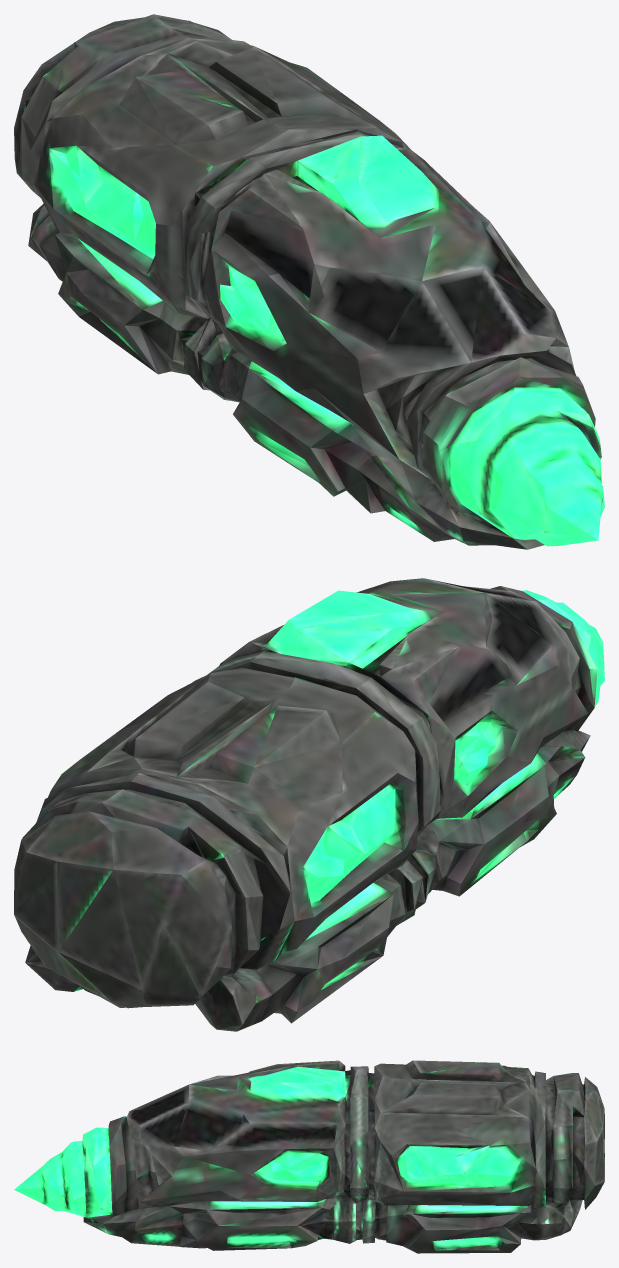
Rendered from train-earth.glb.
3 renders of one model, top to bottom at view 1: azimuth 30°, elevation 25°; view 2: azimuth 150°, elevation 25°; view 3: azimuth 270°, elevation 25°, orthographic. The views are drawn at different scales.
Visible parts, largest first — view 1: Mesh_0; view 2: Mesh_0; view 3: Mesh_0.
Boxes of the visible parts, bbox=[...] form: Mesh_0: bbox=[14, 14, 604, 549]; Mesh_0: bbox=[14, 578, 604, 1031]; Mesh_0: bbox=[14, 1060, 604, 1253].
Bounding box in the file's own units: 0.6742 × 0.6 × 2.05.
Materials: 1 (1 with a texture image).
